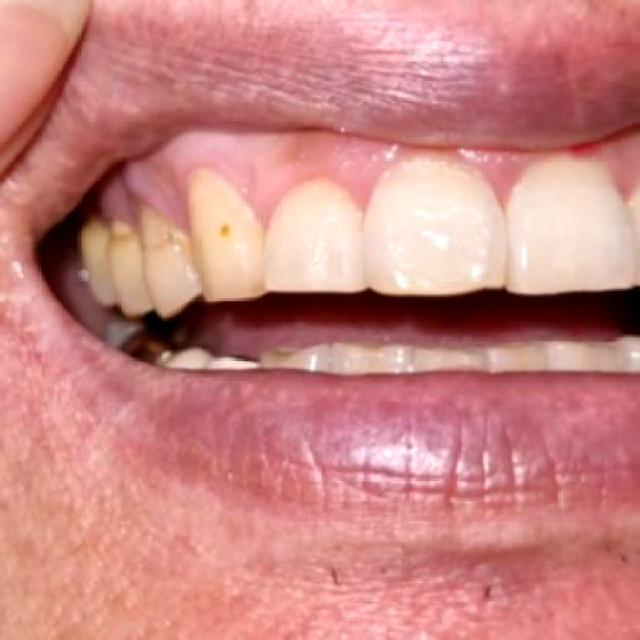Plaque: (124, 202, 177, 253), (208, 206, 243, 243), (104, 211, 137, 245)
